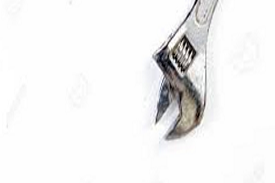wrench: (146, 2, 219, 148)
